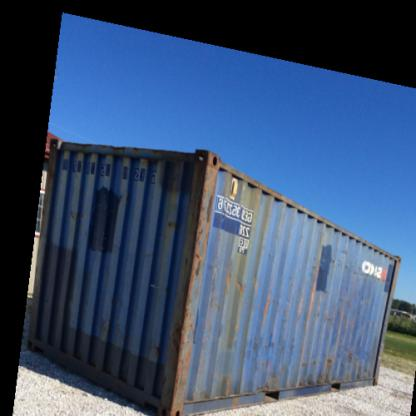Damage: (167, 287, 202, 387), (189, 164, 217, 274), (316, 252, 362, 276), (292, 348, 343, 366), (224, 268, 254, 297), (292, 372, 340, 388), (336, 289, 380, 305), (213, 374, 243, 396), (314, 311, 345, 329), (246, 330, 282, 345), (254, 370, 278, 390), (158, 212, 174, 235), (69, 204, 84, 224)
